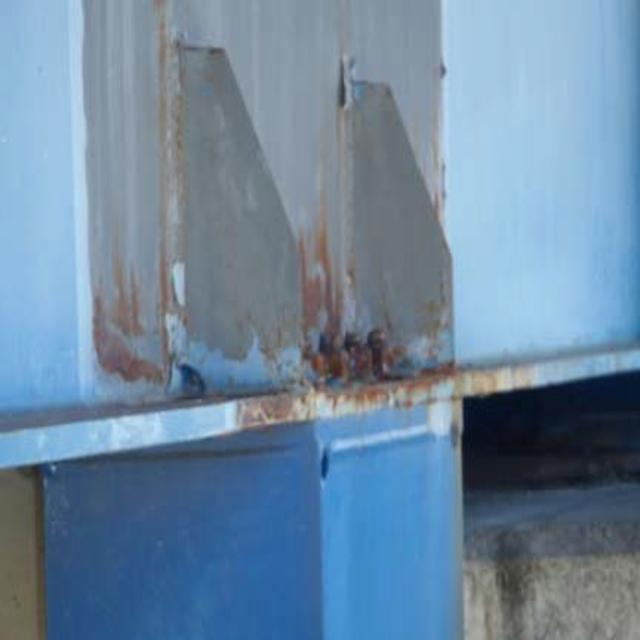corrosion: (83, 96, 530, 438)
